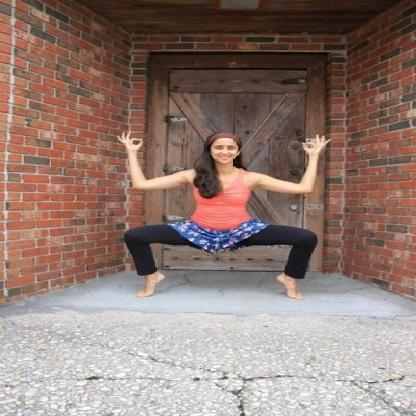godness: (114, 125, 338, 302)
